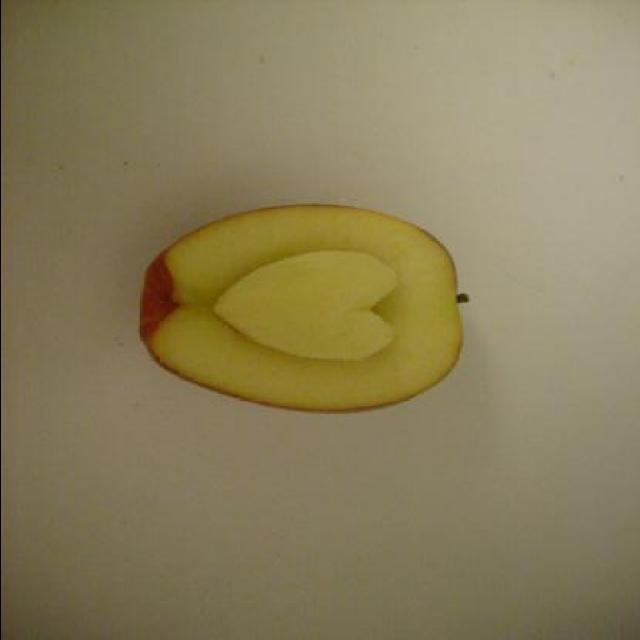Apple pie: (114, 215, 452, 402)
